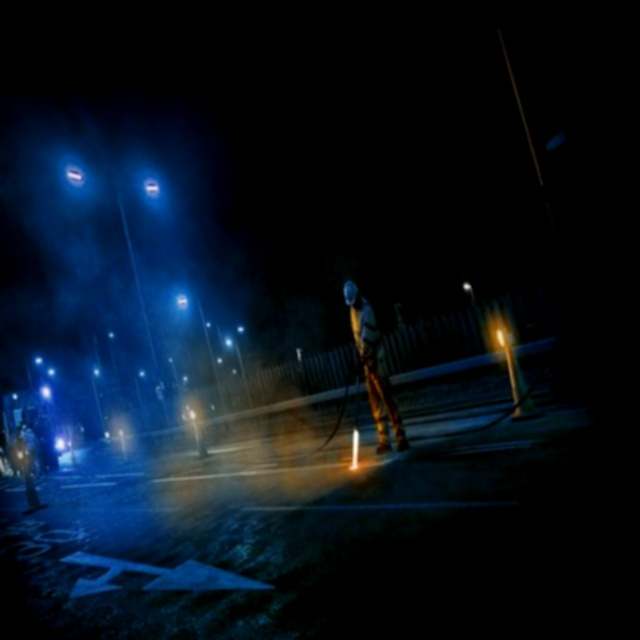Con_Casco: (340, 278, 362, 306)
Con_Chaleco: (346, 302, 386, 369)
